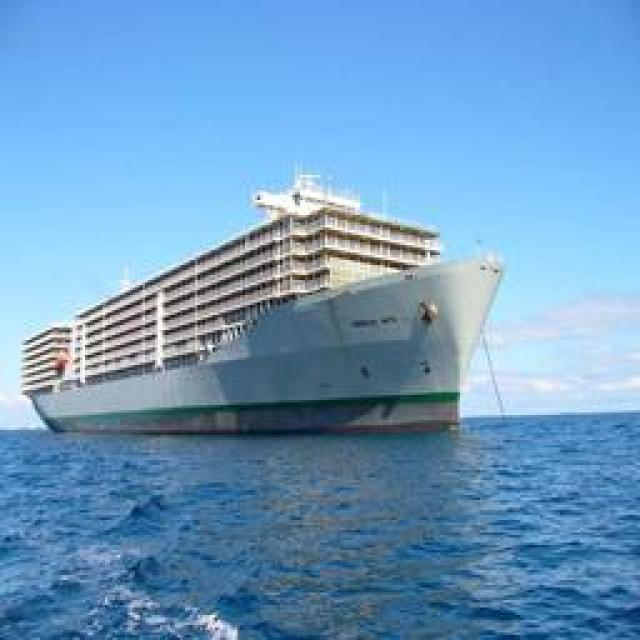CIV_Ship: (30, 234, 500, 436)
